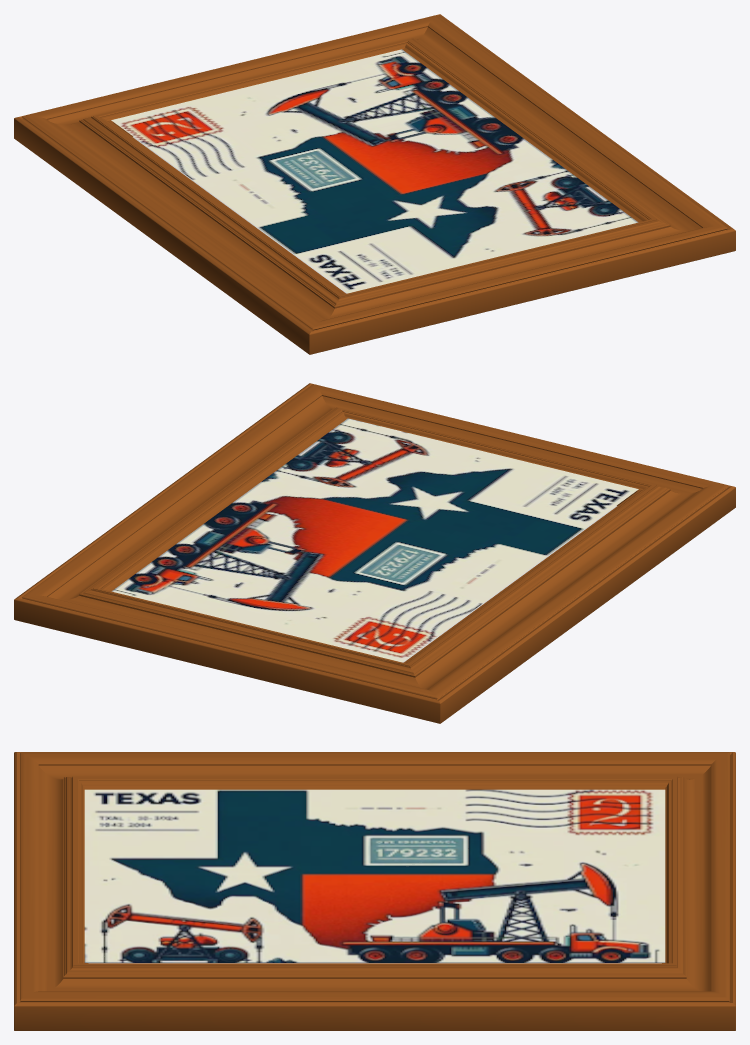
File: kartpost.fbx
3 views of the same model, one above another, from view 1: azimuth 30°, elevation 25°; view 2: azimuth 150°, elevation 25°; view 3: azimuth 270°, elevation 25° (orthographic). The views are drawn at different scales.
Visible parts, largest first — view 1: Picture Frame, unnamed; view 2: Picture Frame, unnamed; view 3: unnamed, Picture Frame.
Part boxes in pixels (left/top/right/bottom): Picture Frame: left=14, top=14, right=735, bottom=354; unnamed: left=111, top=49, right=638, bottom=293; Picture Frame: left=14, top=383, right=735, bottom=723; unnamed: left=111, top=418, right=638, bottom=662; unnamed: left=84, top=789, right=665, bottom=962; Picture Frame: left=14, top=752, right=735, bottom=1030.
Bounding box in the file's own units: 97.47 × 5.91 × 117.
Materials: 3 (1 with a texture image).
